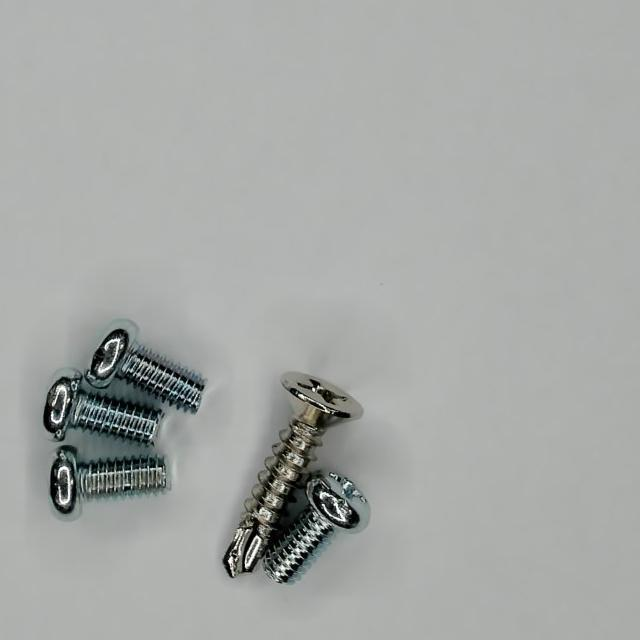Screw: (224, 373, 363, 578), (263, 473, 370, 584), (85, 321, 205, 414), (43, 377, 164, 444), (50, 448, 167, 514)
